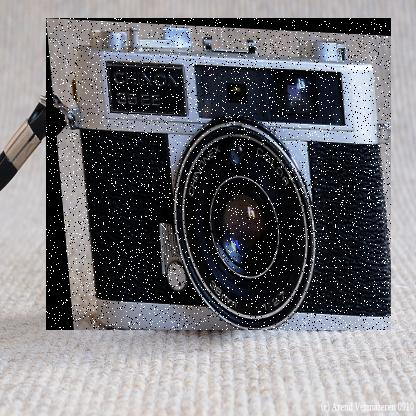Camera: (47, 19, 393, 332)
